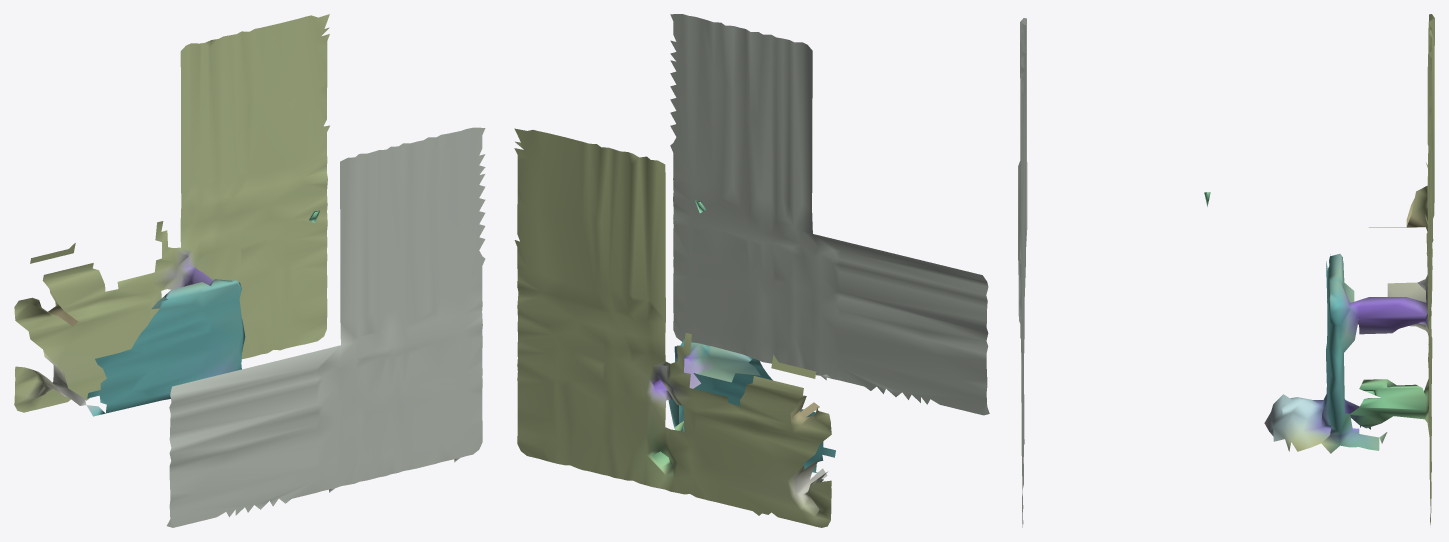
The model's file is tile_7e4ccbd5fe0e_0_-1_0_0_lod2.glb.
The picture shows the model from 3 angles, left to right: view 1: azimuth 30°, elevation 25°; view 2: azimuth 150°, elevation 25°; view 3: azimuth 270°, elevation 25°; orthographic projection. The views are drawn at different scales.
Bounding box in the file's own units: 4.08 × 4.04 × 3.52.
